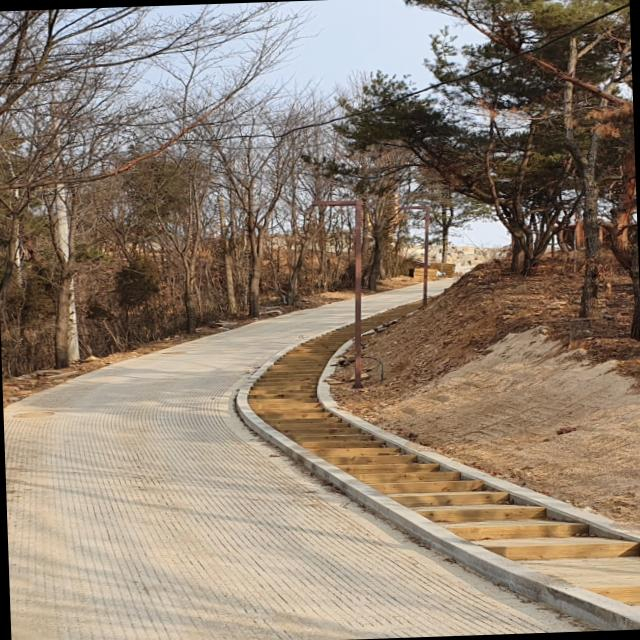cement: (3, 299, 596, 640), (363, 283, 421, 317), (429, 278, 456, 294)
red-sand: (344, 261, 640, 423)
white-sand: (334, 327, 640, 528)
